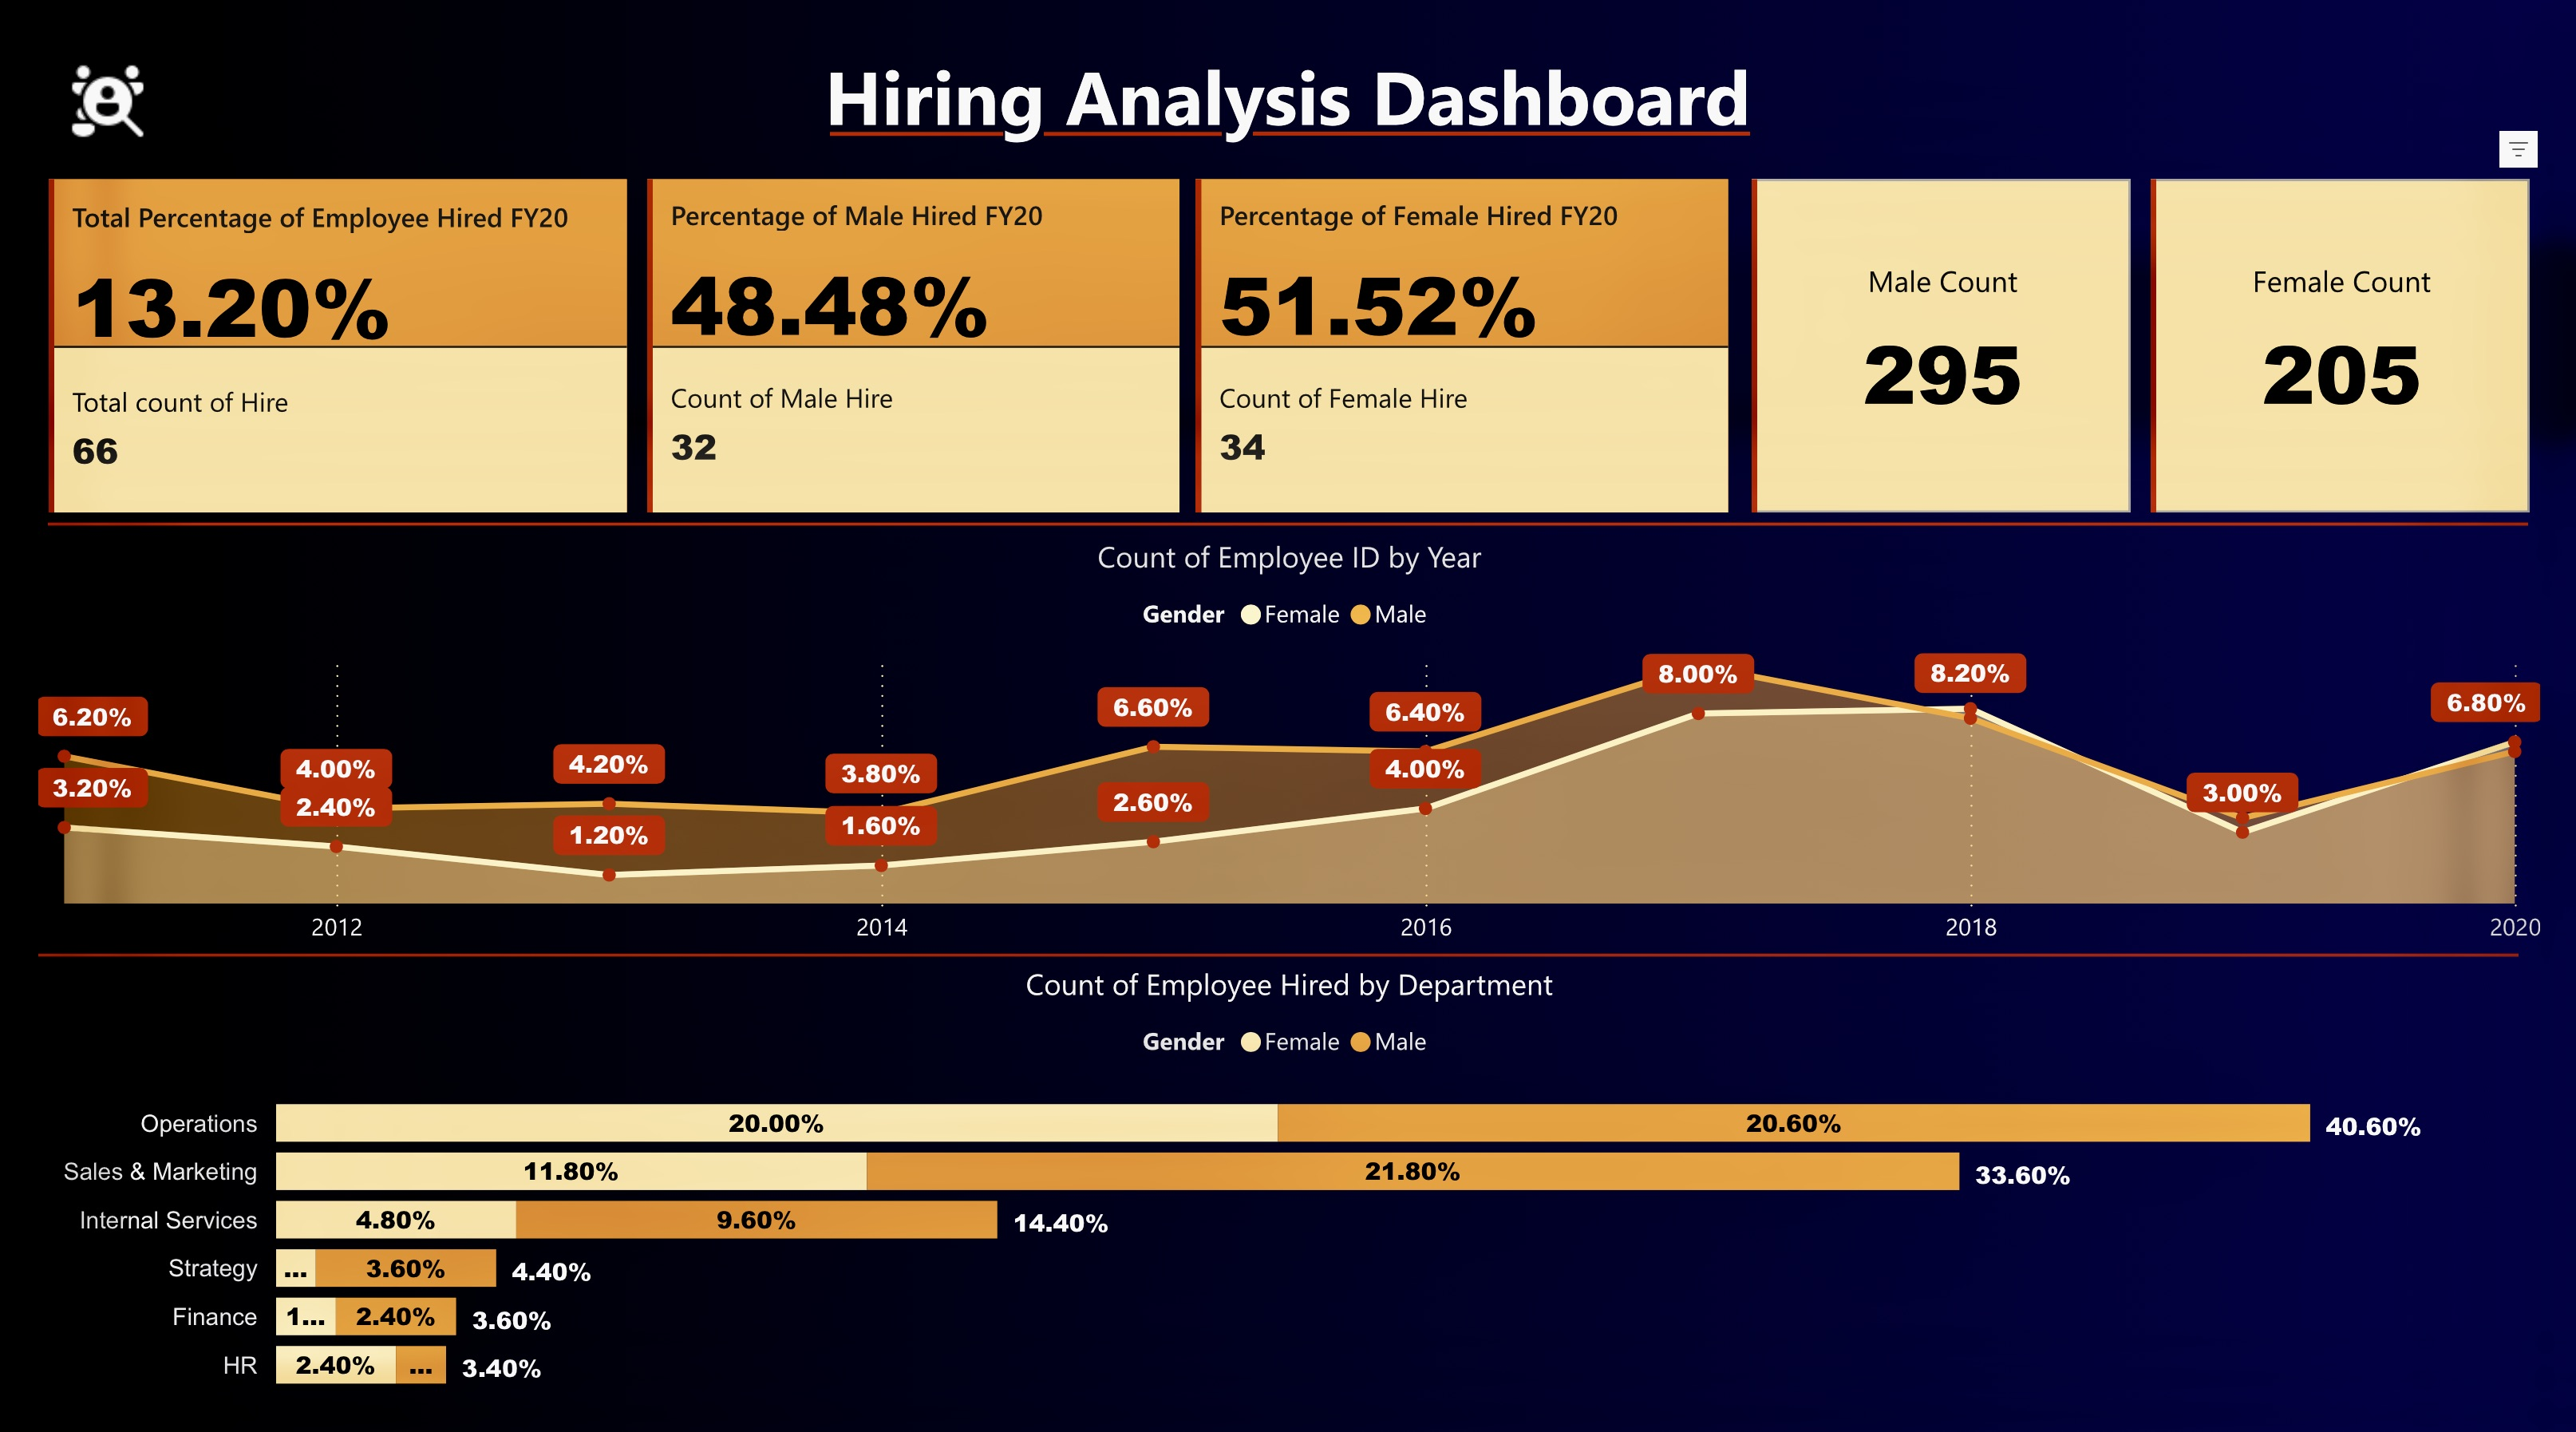

The dashboard page shown, as its layout file describes it:
{"tool":"powerbi","page":{"name":"Hiring","canvas":[1300,720],"ordinal":0},"visuals":[{"type":"cardVisual","fields":{"Data":["1. Hiring Measures.%_count_of_male_hire","1. Hiring Measures.%_count_of_female_hire"]},"box":[323.2,85.6,553.6,177.3],"z":0},{"type":"cardVisual","fields":{"Data":["1. Hiring Measures.%_count_of_hire"]},"box":[22.9,85.6,300.3,177.3],"z":1000},{"type":"cardVisual","fields":{"Data":["Measures Table.count_male","Measures Table.count_female"]},"box":[876.8,85.6,400.4,177.3],"z":2000},{"type":"textbox","box":[22,18.3,1254.2,80.7],"z":3000},{"type":"areaChart","title":"Count of Employee ID by Year ","fields":{"Category":["Pharma Group AG.Last hire date.Variation.Date Hierarchy.Year"],"Y":["Divide(CountNonNull(Pharma Group AG.Employee ID), ScopedEval(CountNonNull(Pharma Group AG.Employee ID), []))"],"Series":["Pharma Group AG.Gender"]},"box":[22.9,262.9,1254.3,215.9],"z":4000},{"type":"shape","box":[420,61.6,86.8,12.6],"z":5000},{"type":"shape","box":[631.8,61.8,249.4,12.3],"z":6000},{"type":"shape","box":[527.4,61.6,89.5,12.6],"z":7000},{"type":"barChart","title":"Count of Employee Hired by Department ","fields":{"Category":["Pharma Group AG.Department @01.07.2020"],"Series":["Pharma Group AG.Gender"],"Y":["CountNonNull(Pharma Group AG.New hire FY20?)"]},"box":[22.9,478.8,1254.3,225.5],"z":8000},{"type":"shape","box":[27.7,256.9,1243.4,13.3],"z":9000},{"type":"shape","box":[22.9,472.8,1243.4,13.3],"z":10000},{"type":"image","box":[27.8,23.9,60,55],"z":11000}]}

Visuals, with their boxes in screenshot pixels (x1, y1, x2, y2), scaled from the page's 1300x720 canvas onto the 2576x1432 screenshot:
cardVisual - 1. Hiring Measures.%_count_of_male_hire x 1. Hiring Measures.%_count_of_female_hire: locate(641, 170, 1737, 523)
cardVisual - 1. Hiring Measures.%_count_of_hire: locate(45, 170, 641, 523)
cardVisual - Measures Table.count_male x Measures Table.count_female: locate(1737, 170, 2531, 523)
textbox: locate(44, 37, 2529, 197)
"Count of Employee ID by Year " areaChart: locate(45, 523, 2531, 952)
shape: locate(832, 122, 1004, 148)
shape: locate(1252, 123, 1746, 148)
shape: locate(1045, 122, 1223, 148)
"Count of Employee Hired by Department " barChart: locate(45, 952, 2531, 1401)
shape: locate(55, 511, 2519, 537)
shape: locate(45, 940, 2509, 967)
image: locate(55, 48, 174, 157)
